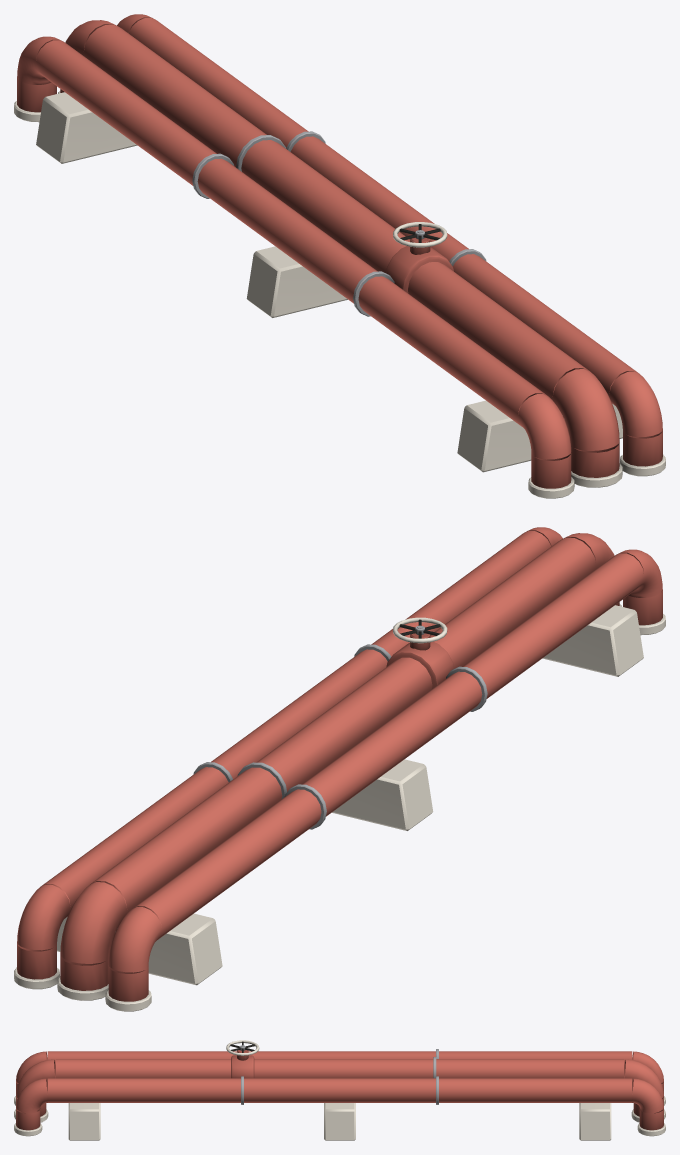
The model's file is pipes.glb.
The picture shows the model from 3 angles, top to bottom: view 1: azimuth 30°, elevation 25°; view 2: azimuth 150°, elevation 25°; view 3: azimuth 270°, elevation 25°; orthographic projection. The views are drawn at different scales.
Parts seen in each view (by area): view 1: PART; view 2: PART; view 3: PART.
Part boxes in pixels (x1=…): PART: x1=14, y1=14, x2=665, y2=498; PART: x1=14, y1=527, x2=665, y2=1011; PART: x1=14, y1=1040, x2=665, y2=1140.
Size of the model in its own units: 1.49 by 1.03 by 8.55.
